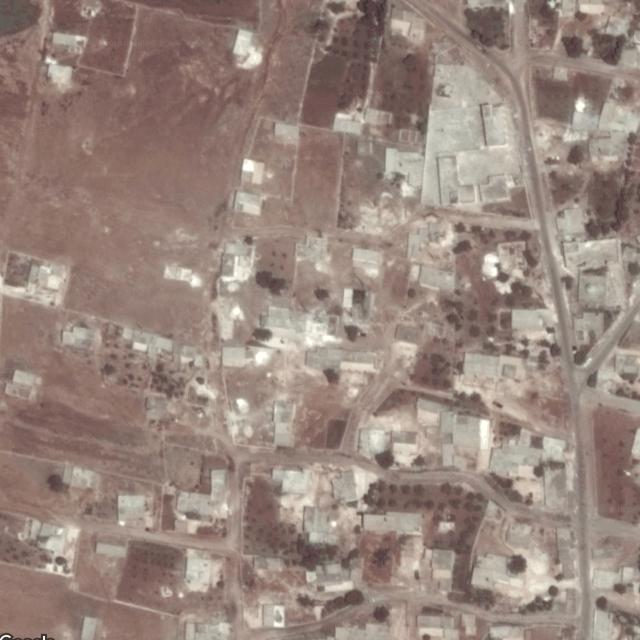damaged_building: (306, 314, 339, 344)
